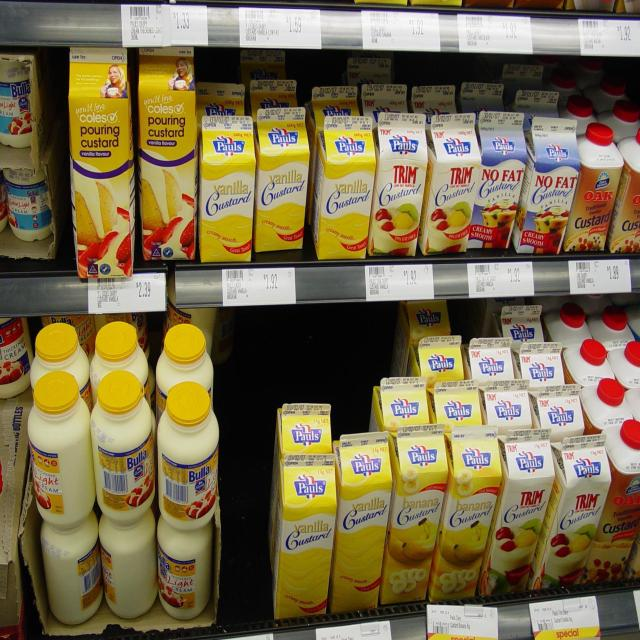empty_space: (234, 326, 383, 389), (233, 419, 267, 612)
